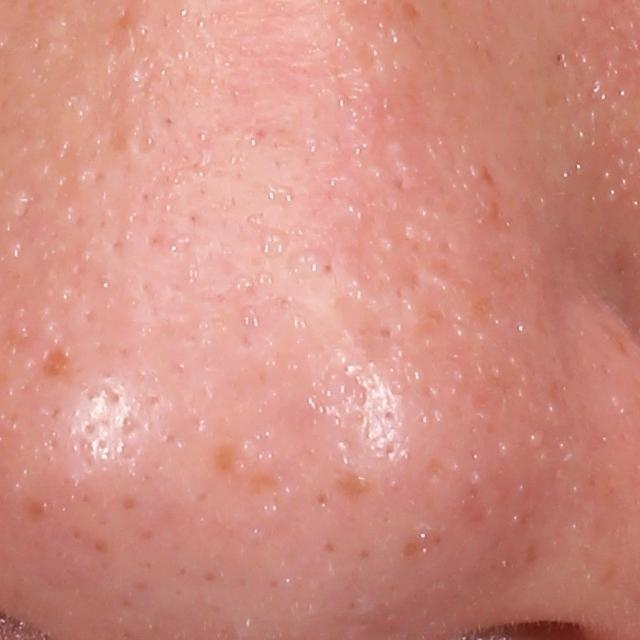melasma: (206, 435, 249, 478), (36, 342, 76, 385), (332, 465, 377, 500)
